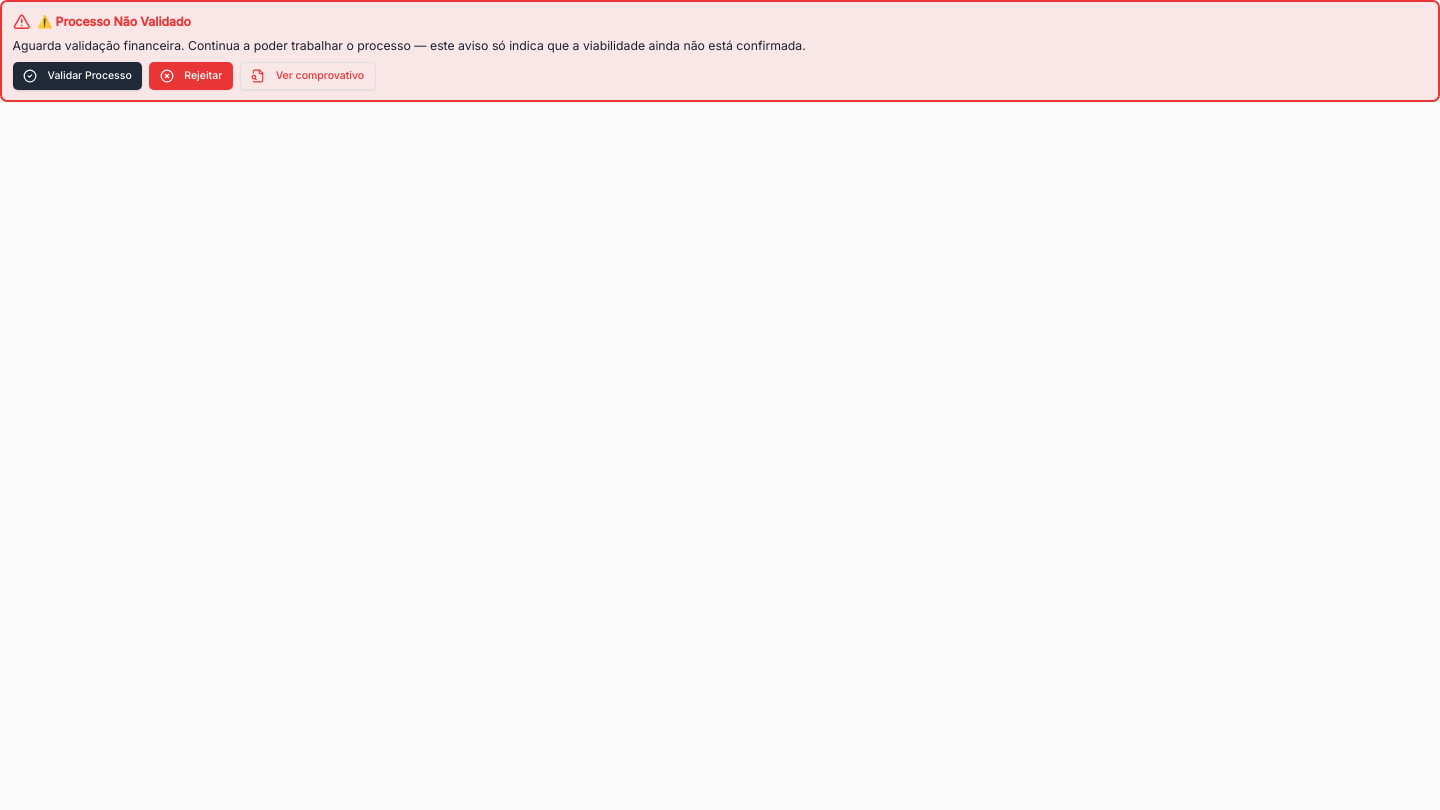
Test case: decidir › rejeitar exige um motivo e só depois envia
Later steps or results of the test are not shown.
Click the button "Rejeitar".
click(191, 76)  # box [149,62,233,90]
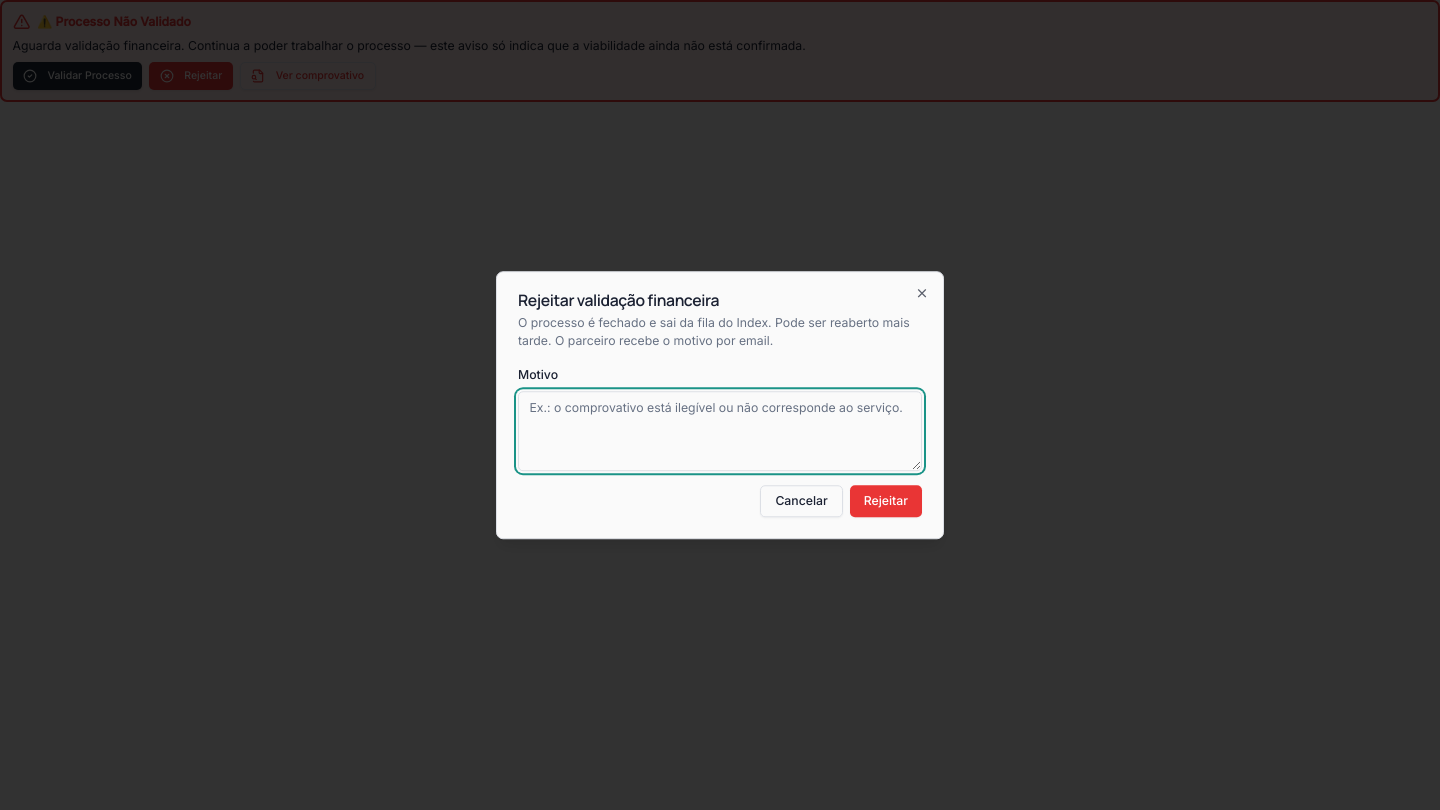
Click the button with test id "confirmar-rejeicao".
click(886, 501)  # box [850,485,922,517]
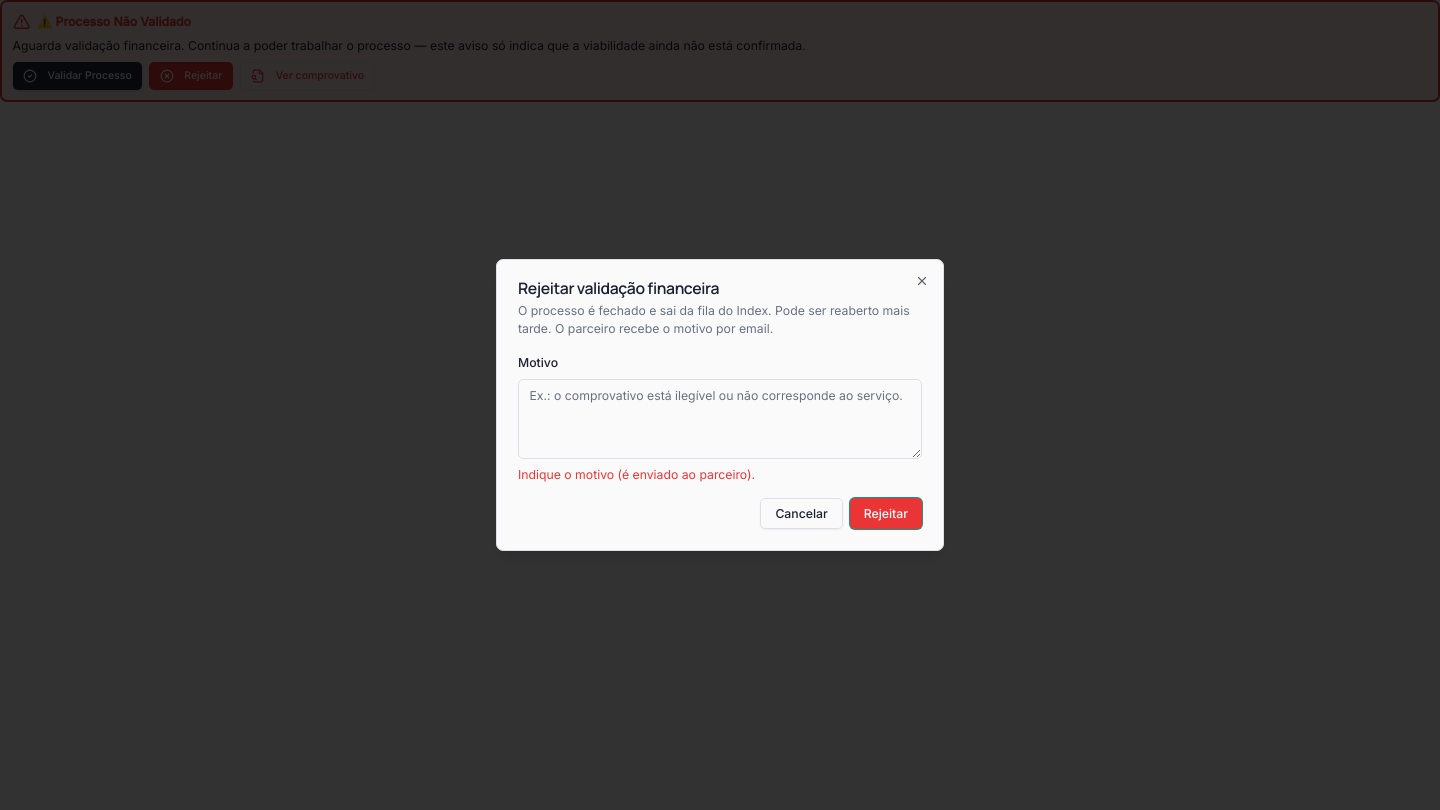
Now the message shows "Indique o motivo", box [518,467,755,482]
